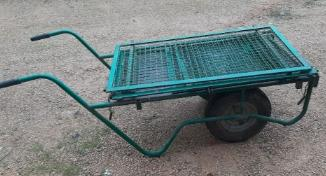BROUETTE: (0, 23, 321, 160)
